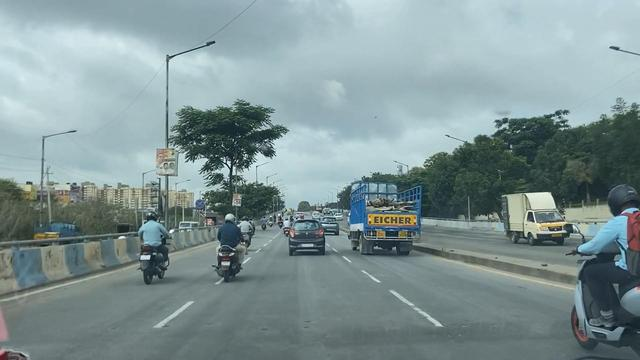HMV: (352, 184, 423, 254)
LMV: (132, 212, 168, 283), (212, 212, 246, 279), (289, 219, 327, 255)
